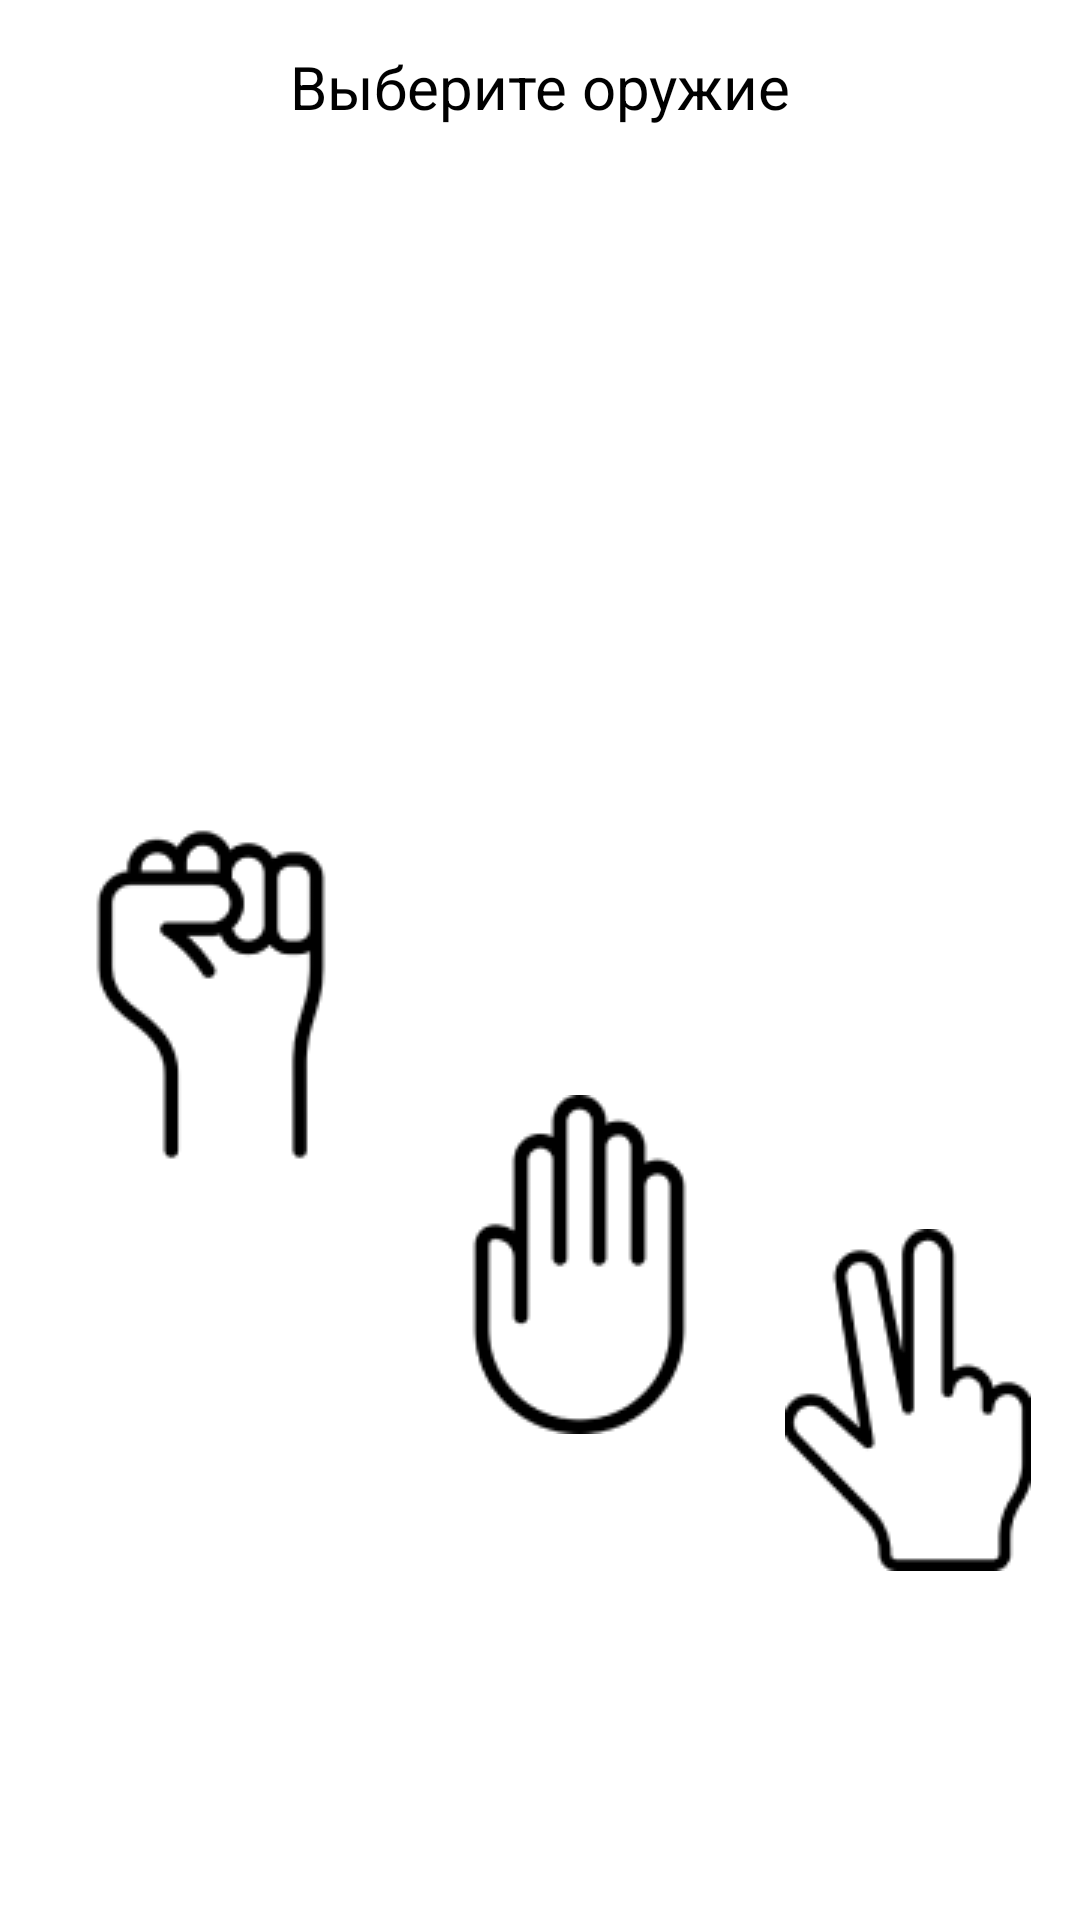

Screen size 1080 x 1920. Icon name, then its box in pixels as (x1, y1, x2, y2):
paper: (472, 1095, 687, 1434)
rock: (96, 830, 326, 1159)
scissor: (785, 1229, 1031, 1571)
